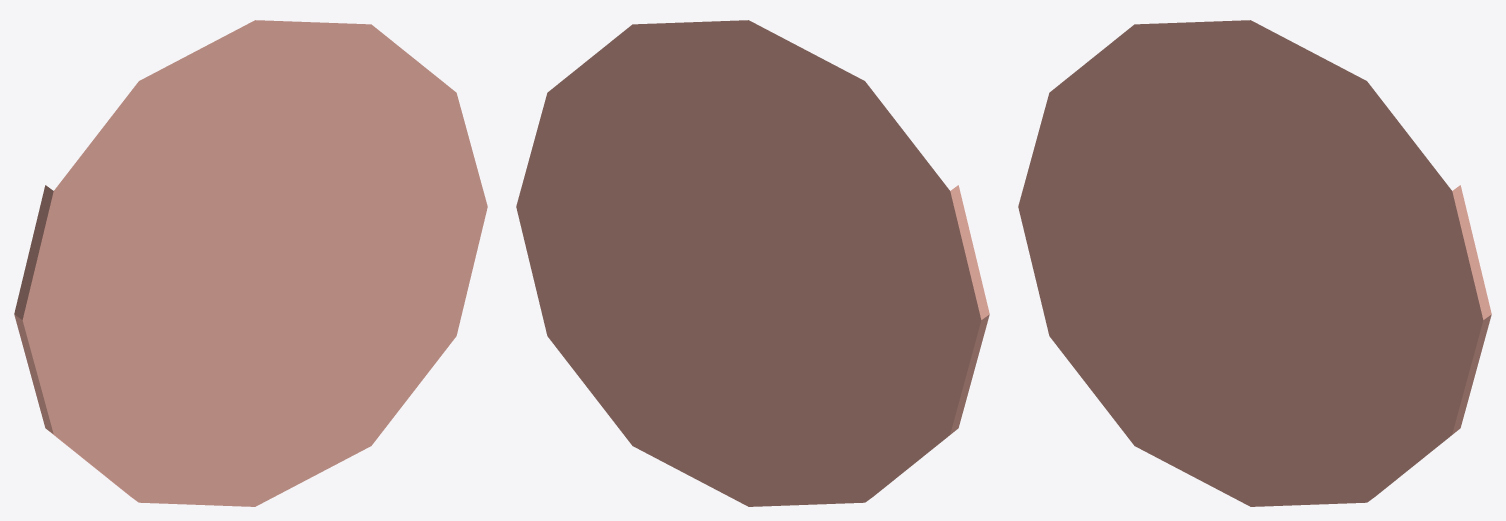
Rendered from sun.glb.
The picture shows the model from 3 angles, left to right: view 1: azimuth 30°, elevation 25°; view 2: azimuth 150°, elevation 25°; view 3: azimuth 330°, elevation 25°; orthographic projection.
Parts seen in each view (by area): view 1: Sun; view 2: Sun; view 3: Sun.
Boxes of the visible parts, x1=… form: Sun: x1=14, y1=20, x2=487, y2=506; Sun: x1=516, y1=20, x2=989, y2=506; Sun: x1=1018, y1=20, x2=1491, y2=506.
Size of the model in its own units: 3.2 by 3.2 by 0.1.
